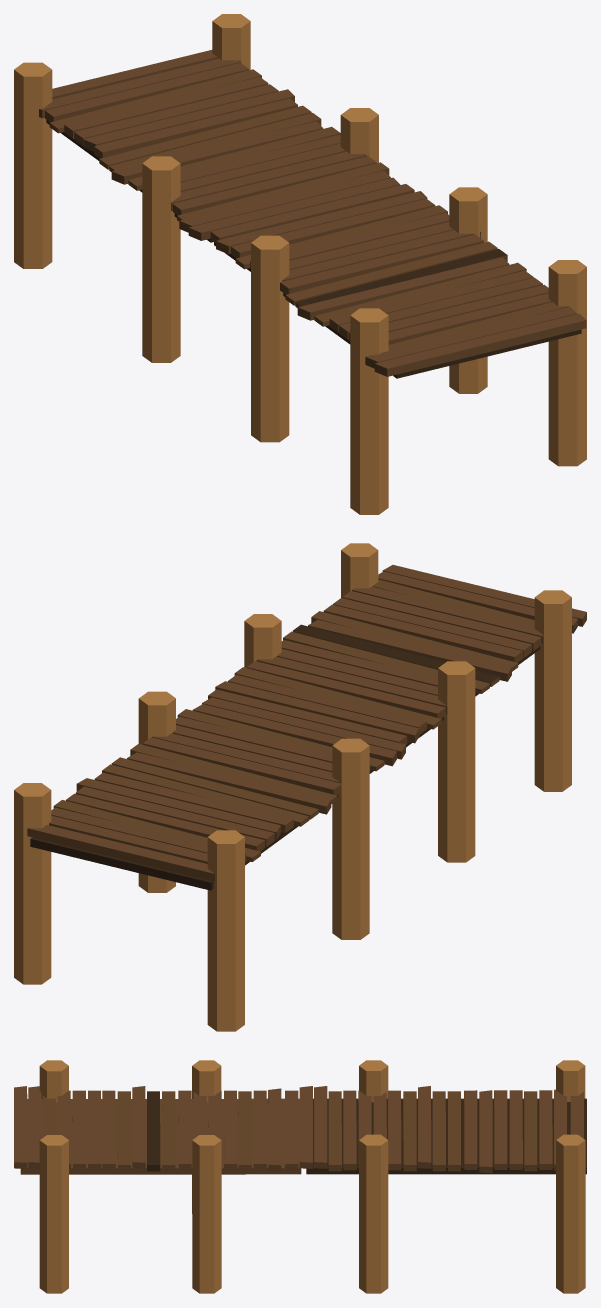
Rendered from JETTY.fbx.
3 renders of one model, top to bottom at view 1: azimuth 30°, elevation 25°; view 2: azimuth 150°, elevation 25°; view 3: azimuth 270°, elevation 25°, orthographic. The views are drawn at different scales.
Parts seen in each view (by area): view 1: polySurface612; view 2: polySurface612; view 3: polySurface612.
Boxes of the visible parts, x1=… form: polySurface612: x1=14, y1=14, x2=586, y2=514; polySurface612: x1=14, y1=543, x2=586, y2=1031; polySurface612: x1=14, y1=1060, x2=586, y2=1293.
Bounding box in the file's own units: 8.48 × 6.85 × 24.05.
